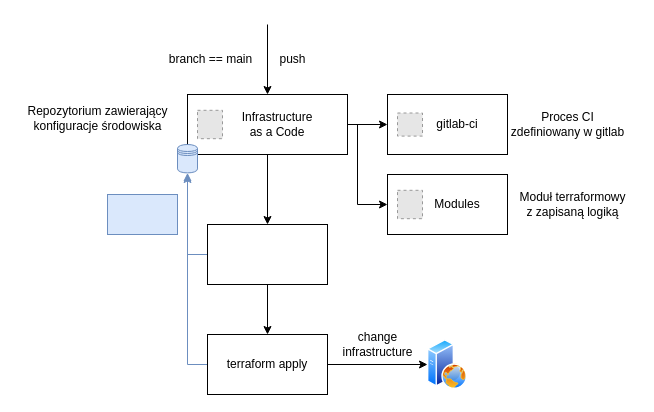
Some shapes in this 654 by 412 pixel diagram are drawn without their labels. Grey dashed boxes stand in for pictures. The shapes that lost their labels are listed below. From the top down, each one's centre as x and y in pixels, then its label:
the point at 142,214: terraform state
the point at 267,254: terraform plan
